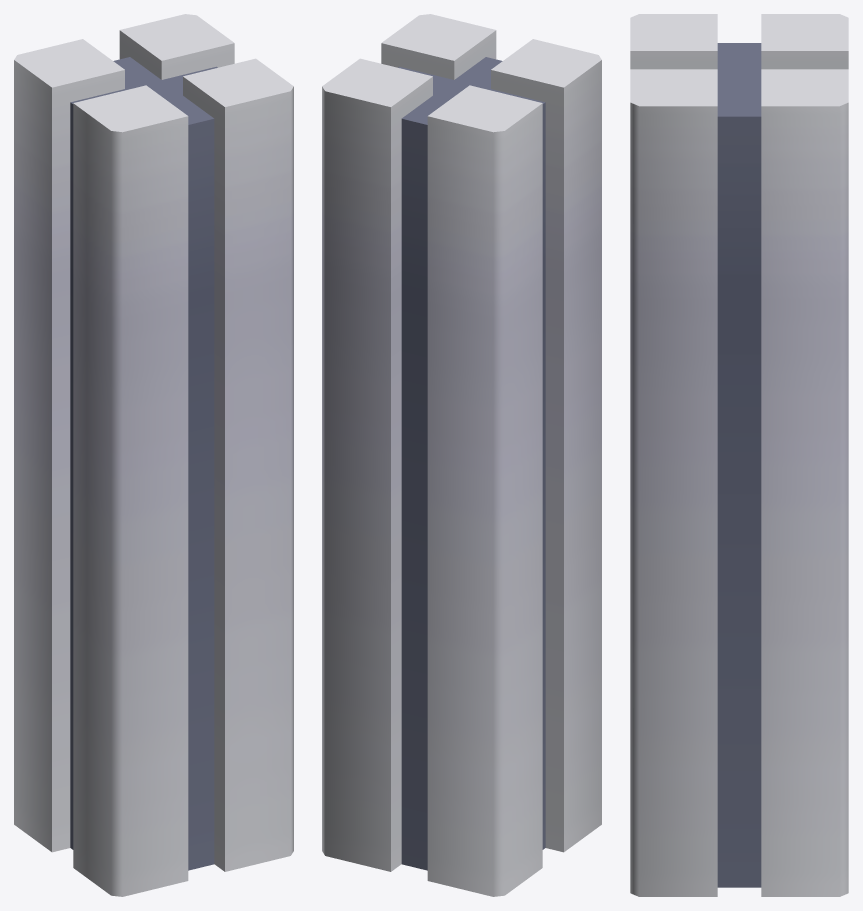
The model's file is low-detail-building-g.glb.
3 views of the same model, side by side, from view 1: azimuth 30°, elevation 25°; view 2: azimuth 150°, elevation 25°; view 3: azimuth 270°, elevation 25° (orthographic). The views are drawn at different scales.
Visible parts, largest first — view 1: low-detail-building-g; view 2: low-detail-building-g; view 3: low-detail-building-g.
Part boxes in pixels (x1=…): low-detail-building-g: x1=14, y1=14, x2=293, y2=896; low-detail-building-g: x1=322, y1=14, x2=601, y2=896; low-detail-building-g: x1=630, y1=14, x2=848, y2=896.
Size of the model in its own units: 0.5001 by 2 by 0.5001.
Materials: 1 (1 with a texture image).
